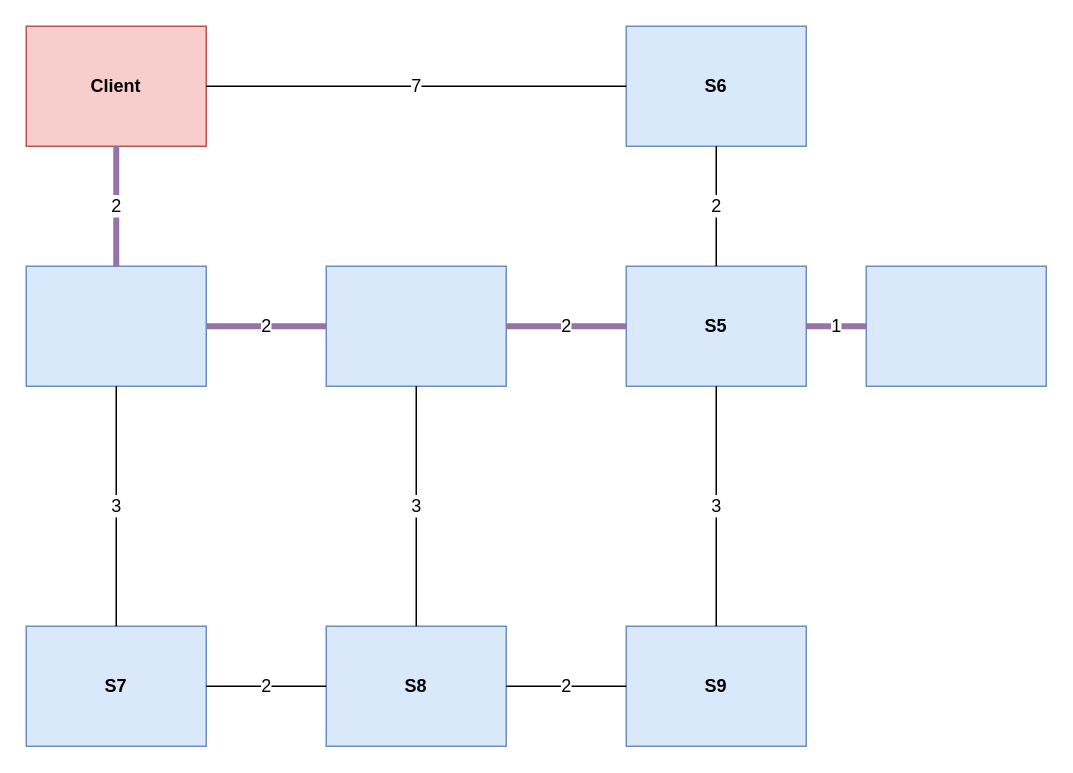
Some shapes in this 1073 by 773 pixel diagram are drawn without their labels. Each missing label, with the centre of its shape:
S2: the point at 955,325
S3: the point at 115,325
S4: the point at 415,325
